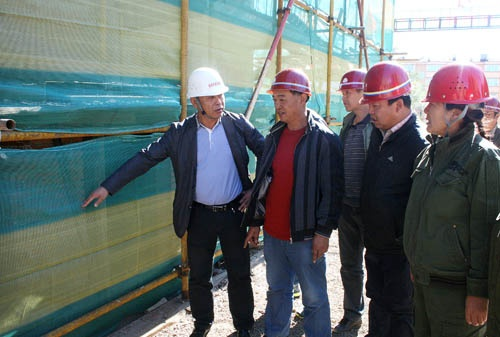red: (424, 61, 487, 135), (360, 59, 416, 128), (267, 68, 312, 124), (336, 68, 367, 114), (482, 96, 500, 127)
white: (186, 65, 228, 120)
